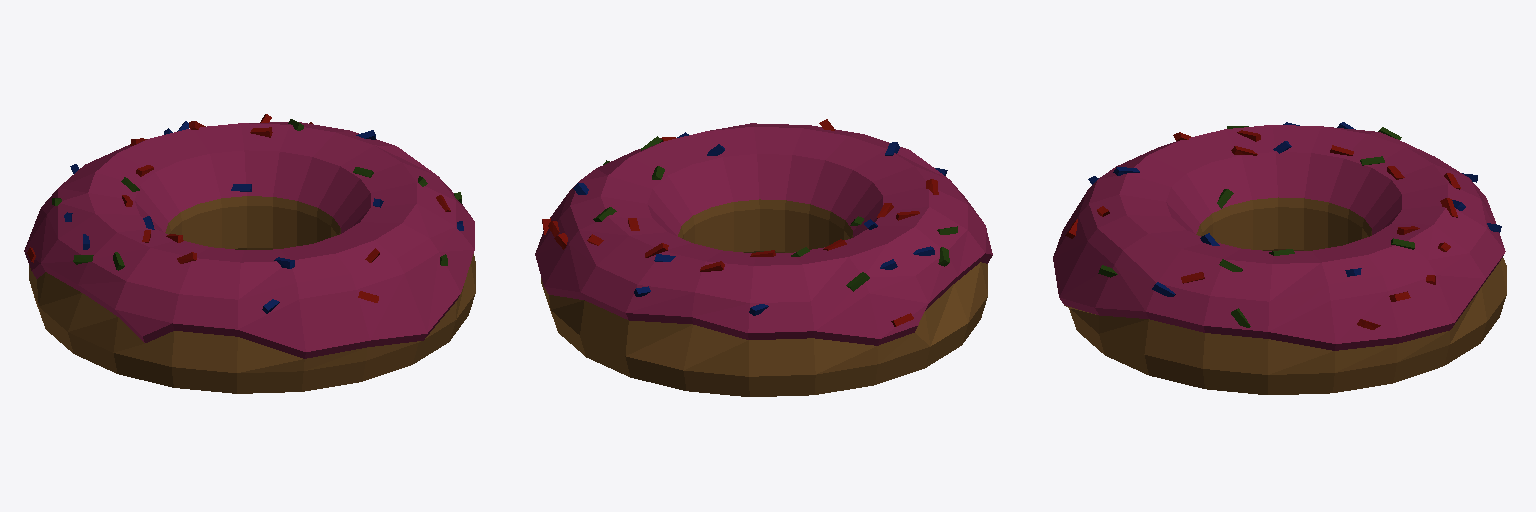
Rendered from donut.obj.
3 views of the same model, side by side, from view 1: azimuth 30°, elevation 25°; view 2: azimuth 150°, elevation 25°; view 3: azimuth 270°, elevation 25° (orthographic).
Parts seen in each view (by area): view 1: Donut1; view 2: Donut1; view 3: Donut1.
Boxes of the visible parts, x1,y1,x2,y2 form: Donut1: [24, 114, 475, 393]; Donut1: [535, 119, 992, 396]; Donut1: [1053, 122, 1506, 394].
Bounding box in the file's own units: 0.8591 × 0.2914 × 0.8698.